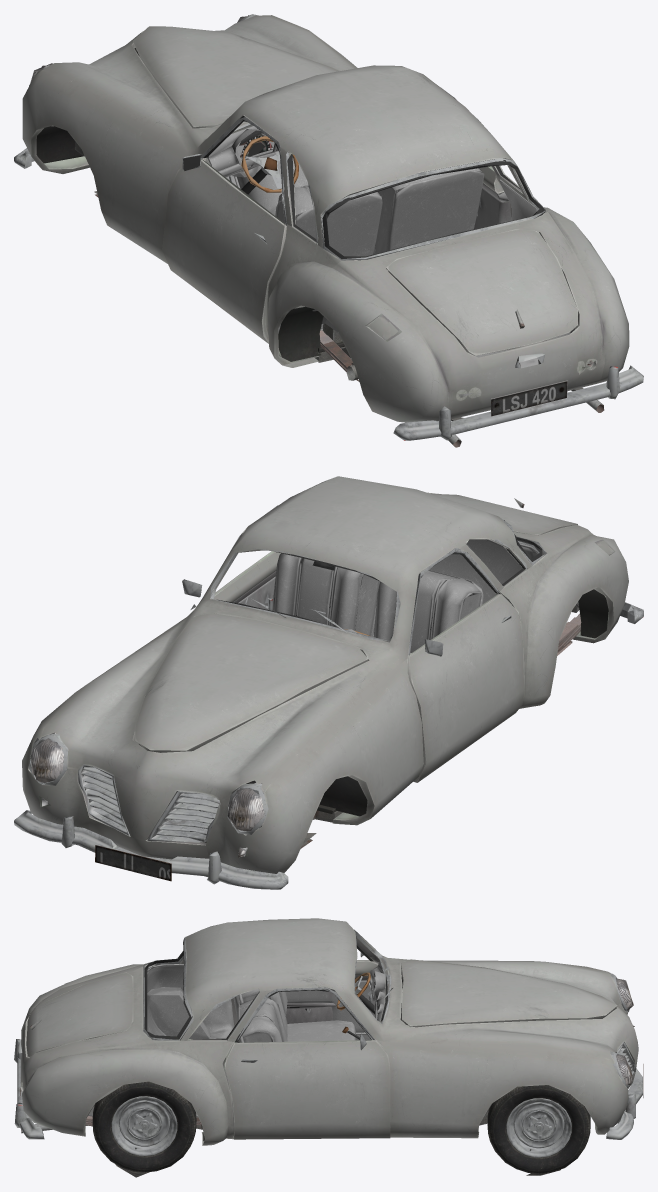
Rendered from classic.glb.
3 renders of one model, top to bottom at view 1: azimuth 30°, elevation 25°; view 2: azimuth 150°, elevation 25°; view 3: azimuth 270°, elevation 25°, orthographic. The views are drawn at different scales.
Parts seen in each view (by area): view 1: body; view 2: body; view 3: body, wheel_R, wheel_F.
Boxes of the visible parts, x1,y1,x2,y2 form: body: (14,14,643,447); body: (14,476,643,889); body: (14,918,643,1177); wheel_R: (92,1081,196,1172); wheel_F: (487,1085,590,1175).
Size of the model in its own units: 1.81 by 1.51 by 4.44.
15 materials, 12 textured.
